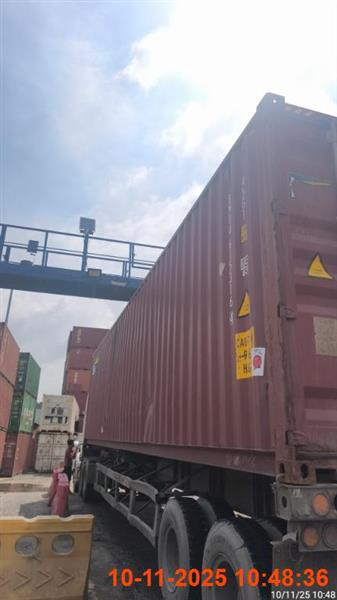rust: (64, 92, 335, 598), (63, 439, 77, 483)
